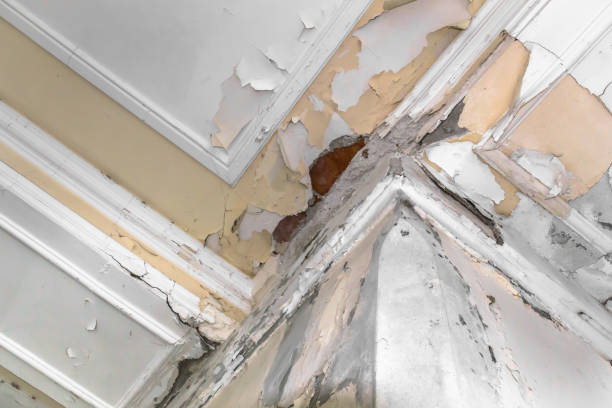crack: (103, 247, 226, 359)
